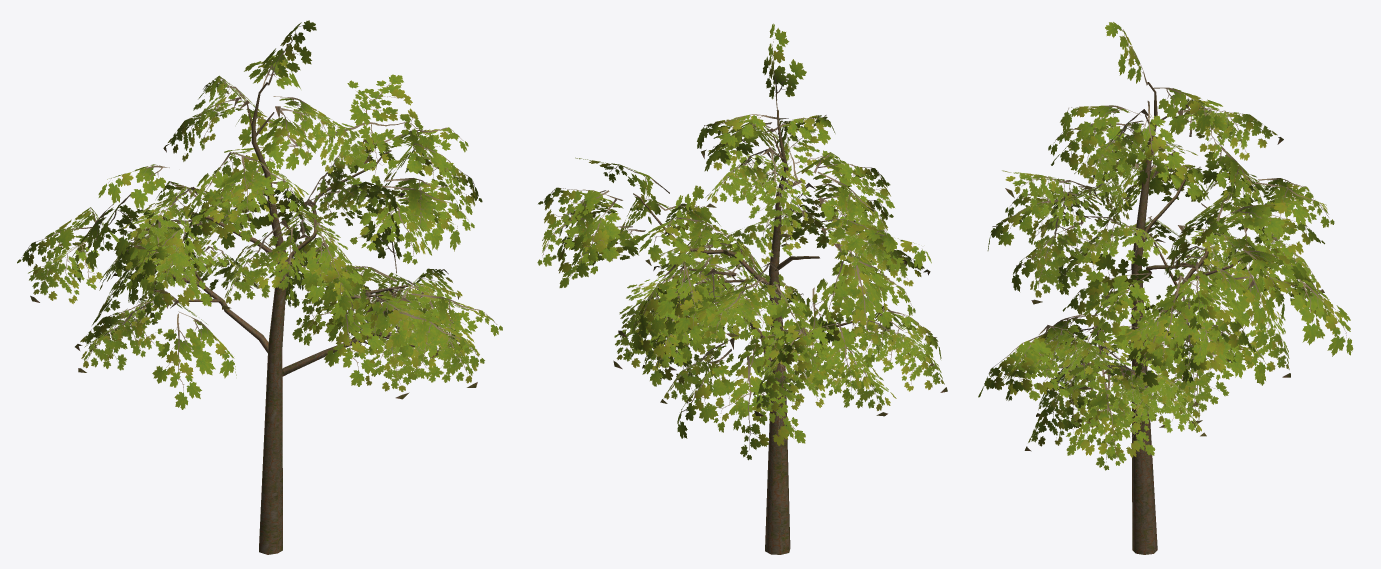
The model's file is SM_Tree_Mid_01.fbx.
The picture shows the model from 3 angles, left to right: view 1: azimuth 30°, elevation 25°; view 2: azimuth 150°, elevation 25°; view 3: azimuth 270°, elevation 25°; orthographic projection. The views are drawn at different scales.
Visible parts, largest first — view 1: SM_Tree_Mid_01_LOD0; view 2: SM_Tree_Mid_01_LOD0; view 3: SM_Tree_Mid_01_LOD0.
Boxes of the visible parts, left/top/right/bottom form: SM_Tree_Mid_01_LOD0: left=17, top=20, right=502, bottom=554; SM_Tree_Mid_01_LOD0: left=537, top=23, right=947, bottom=554; SM_Tree_Mid_01_LOD0: left=978, top=22, right=1353, bottom=554.
Size of what is drawn, in the model's own units: 6.8 by 8.23 by 5.34.
